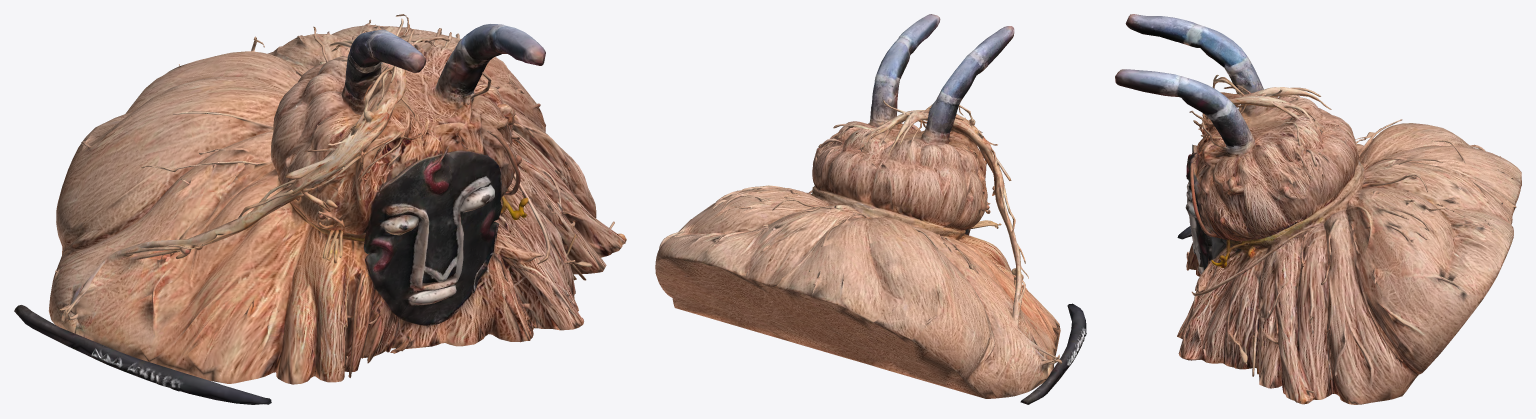
Rendered from tresor-masque-raphia.glb.
3 renders of one model, left to right at view 1: azimuth 30°, elevation 25°; view 2: azimuth 150°, elevation 25°; view 3: azimuth 270°, elevation 25°, orthographic. The views are drawn at different scales.
Visible parts, largest first — view 1: tripo_node_51f4aa8e-634d-4edf-af67-cf9b85937fdf; view 2: tripo_node_51f4aa8e-634d-4edf-af67-cf9b85937fdf; view 3: tripo_node_51f4aa8e-634d-4edf-af67-cf9b85937fdf.
Boxes of the visible parts, x1,y1,x2,y2 form: tripo_node_51f4aa8e-634d-4edf-af67-cf9b85937fdf: [14, 14, 626, 404]; tripo_node_51f4aa8e-634d-4edf-af67-cf9b85937fdf: [655, 14, 1086, 404]; tripo_node_51f4aa8e-634d-4edf-af67-cf9b85937fdf: [1115, 14, 1521, 404].
Size of the model in its own units: 0.9711 by 0.5913 by 0.8111.
Materials: 1 (1 with a texture image).
